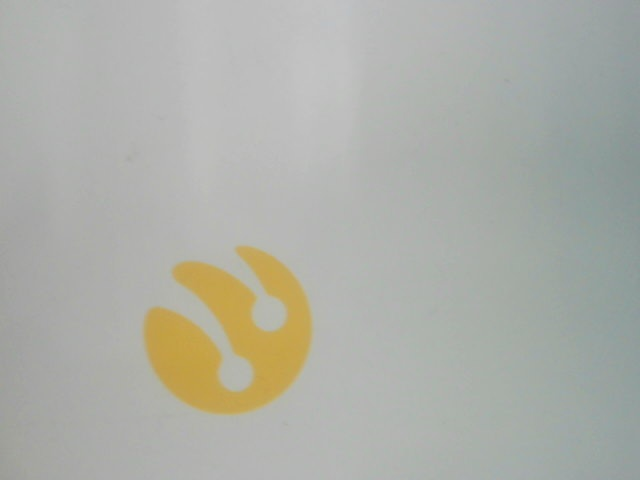AV_H3600Yellow: (123, 237, 332, 424)
